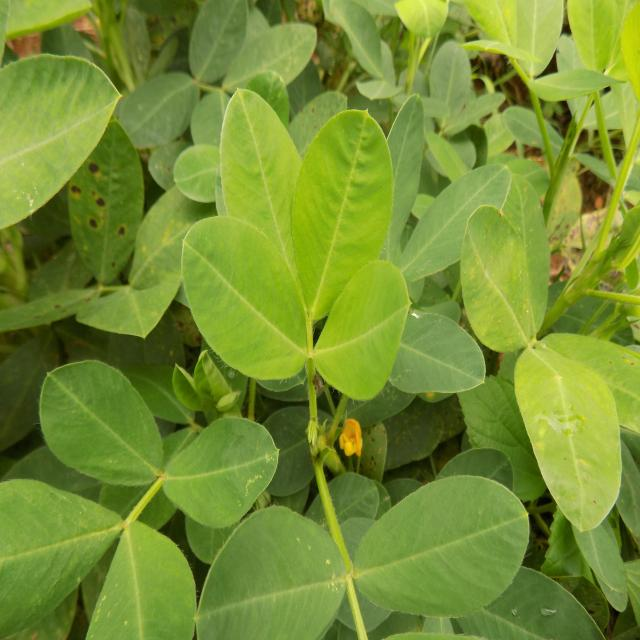Ground nut_healthy: (353, 476, 526, 617), (221, 85, 322, 299), (170, 220, 308, 376), (518, 343, 627, 536), (44, 361, 167, 494), (317, 260, 417, 410), (461, 204, 530, 352)
